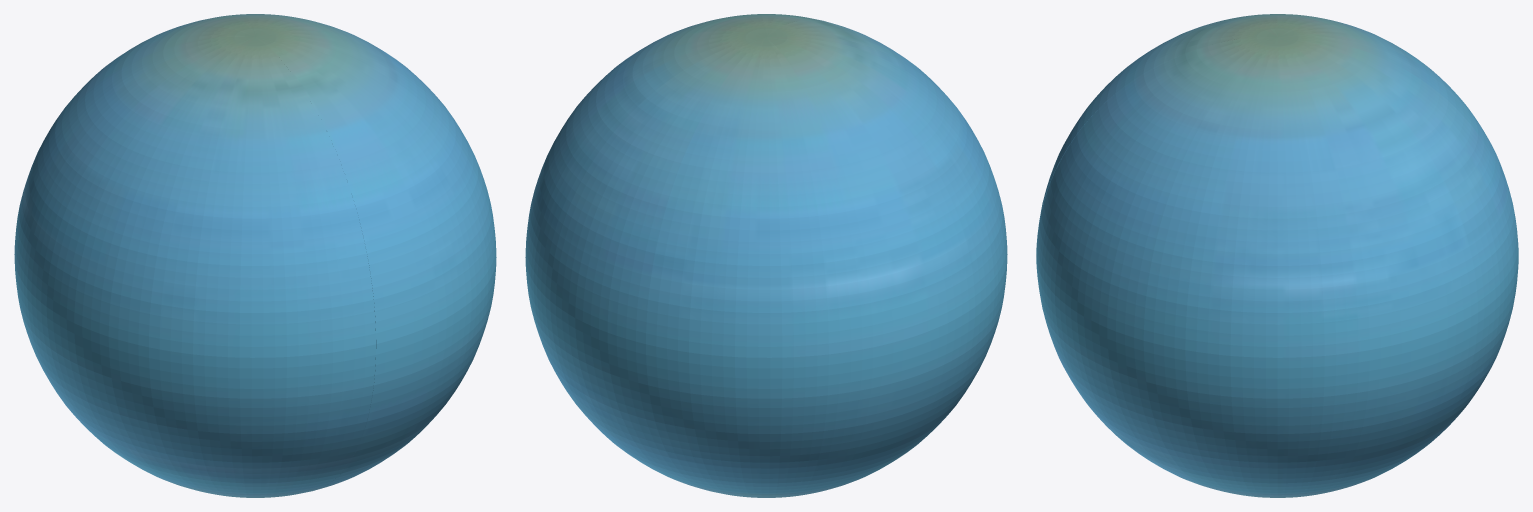
Rendered from uranus.obj.
3 views of the same model, side by side, from view 1: azimuth 30°, elevation 25°; view 2: azimuth 150°, elevation 25°; view 3: azimuth 270°, elevation 25° (orthographic).
Parts seen in each view (by area): view 1: Sphere; view 2: Sphere; view 3: Sphere.
Boxes of the visible parts, box(x1,y1,x2,y2) form: Sphere: box(14, 14, 496, 497); Sphere: box(525, 14, 1007, 497); Sphere: box(1036, 14, 1518, 497).
Bounding box in the file's own units: 1.98 × 1.98 × 1.98.
1 material, 1 textured.
